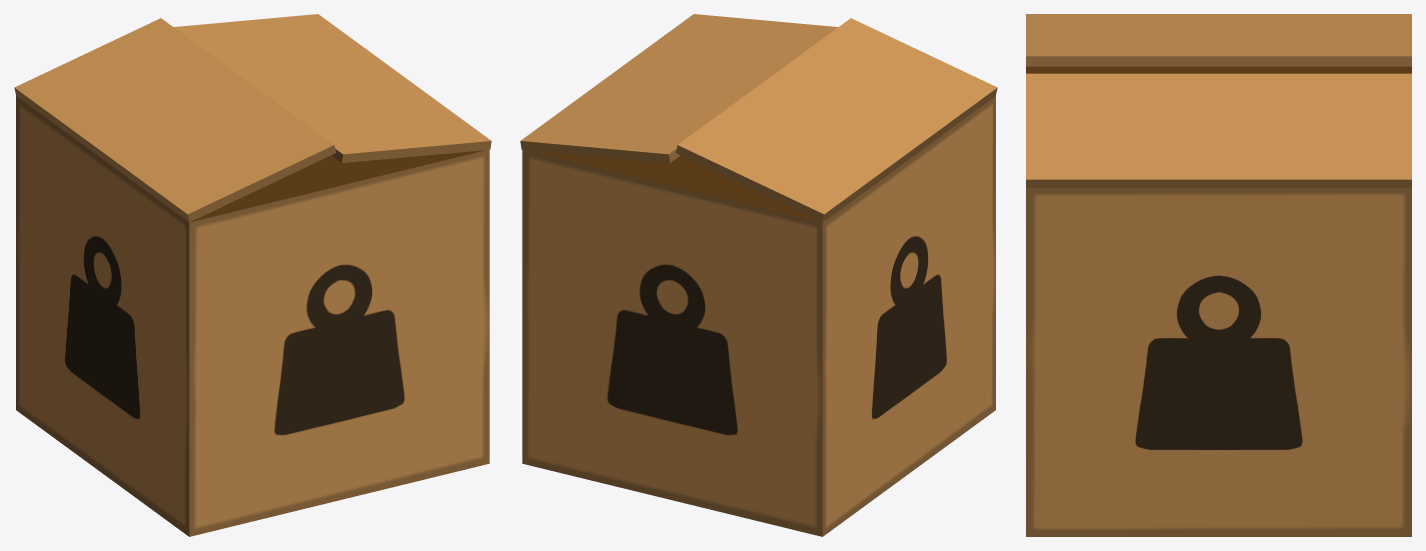
Rendered from HeavyBox.fbx.
The picture shows the model from 3 angles, left to right: view 1: azimuth 30°, elevation 25°; view 2: azimuth 150°, elevation 25°; view 3: azimuth 270°, elevation 25°; orthographic projection. The views are drawn at different scales.
Parts seen in each view (by area): view 1: Cube.003; view 2: Cube.003; view 3: Cube.003.
Boxes of the visible parts, box(x1,y1,x2,y2) form: Cube.003: box(14, 14, 491, 536); Cube.003: box(520, 14, 997, 536); Cube.003: box(1026, 14, 1411, 536).
Size of the model in its own units: 172 by 192 by 170.
